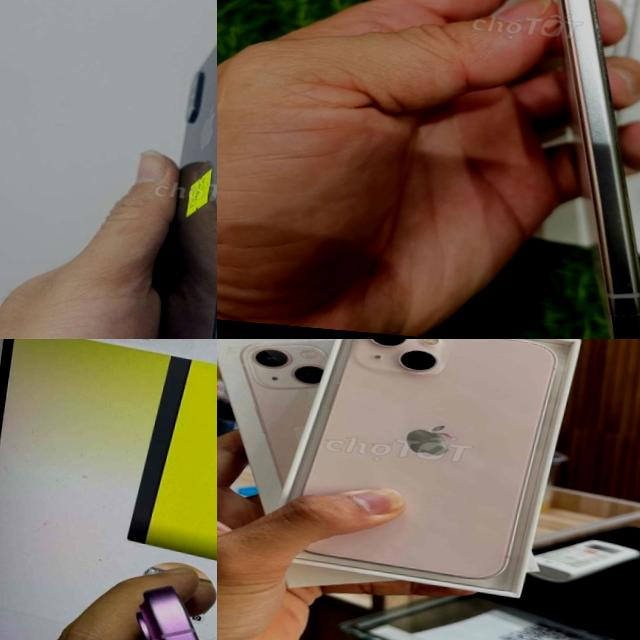gen_12_13: (272, 339, 571, 605)
gen_17: (443, 0, 640, 339)
gen_x_xs: (158, 43, 217, 339)
